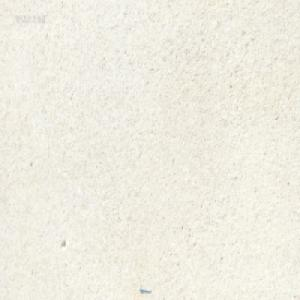Nail: (138, 284, 151, 293)
